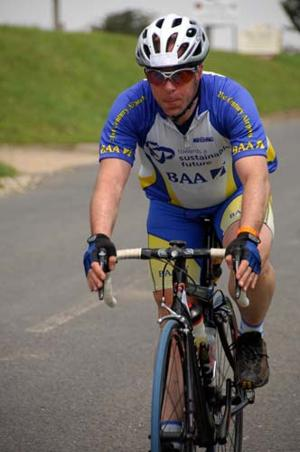person: (84, 14, 276, 452)
